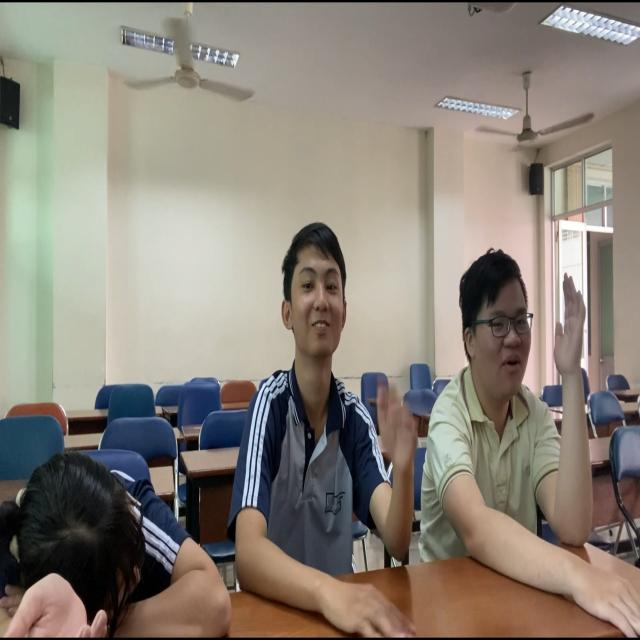raise_hand: (423, 245, 604, 592)
sleep: (1, 424, 231, 640)
